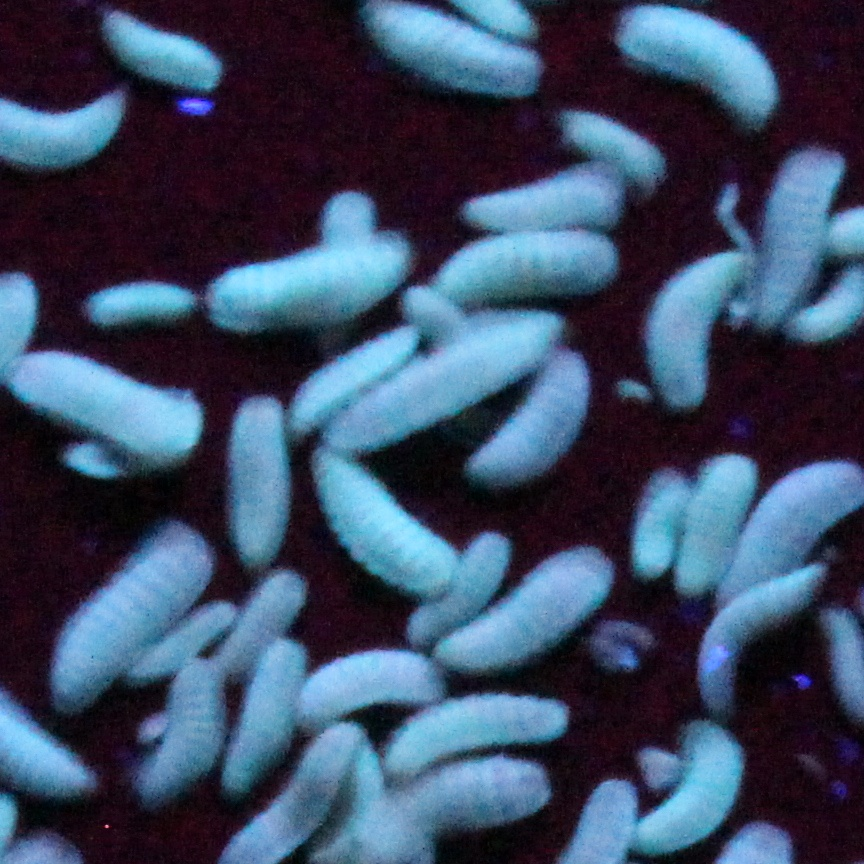larve: (26, 521, 214, 710), (434, 541, 628, 671), (306, 444, 472, 590), (193, 238, 419, 333), (468, 344, 601, 489), (436, 223, 625, 323), (640, 238, 743, 418), (692, 576, 818, 711), (374, 694, 574, 768), (449, 154, 629, 233), (756, 144, 830, 336), (129, 667, 235, 794), (295, 640, 446, 716), (226, 393, 291, 564), (555, 95, 672, 189), (629, 461, 689, 581), (80, 276, 211, 330)
